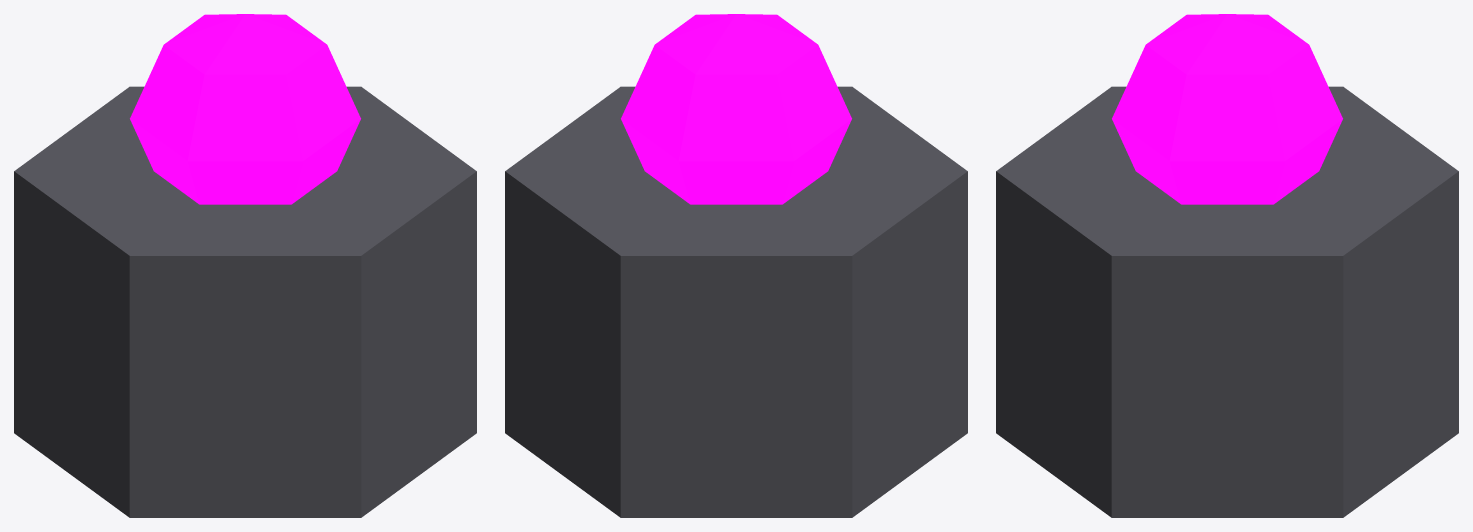
Rendered from tower_tesla_lod1.glb.
The picture shows the model from 3 angles, left to right: view 1: azimuth 30°, elevation 25°; view 2: azimuth 150°, elevation 25°; view 3: azimuth 270°, elevation 25°; orthographic projection.
Parts seen in each view (by area): view 1: tower_tesla_lod1; view 2: tower_tesla_lod1; view 3: tower_tesla_lod1.
Part boxes in pixels (bbox=[...]): tower_tesla_lod1: bbox=[14, 14, 476, 517]; tower_tesla_lod1: bbox=[505, 14, 967, 517]; tower_tesla_lod1: bbox=[996, 14, 1458, 517].
Size of the model in its own units: 0.6928 by 0.8 by 0.8.
